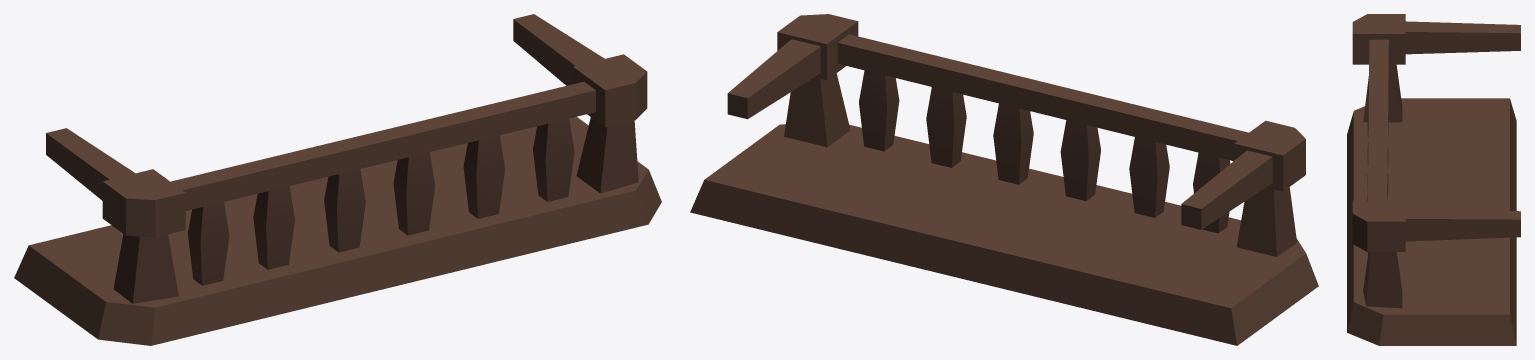
Rendered from Balcony_E1.fbx.
3 views of the same model, side by side, from view 1: azimuth 30°, elevation 25°; view 2: azimuth 150°, elevation 25°; view 3: azimuth 270°, elevation 25° (orthographic). The views are drawn at different scales.
Visible parts, largest first — view 1: Balcony_E1; view 2: Balcony_E1; view 3: Balcony_E1.
Boxes of the visible parts, x1,y1,x2,y2 form: Balcony_E1: [14, 14, 661, 345]; Balcony_E1: [690, 14, 1318, 345]; Balcony_E1: [1347, 14, 1520, 345].
Bounding box in the file's own units: 557 × 133 × 182.
